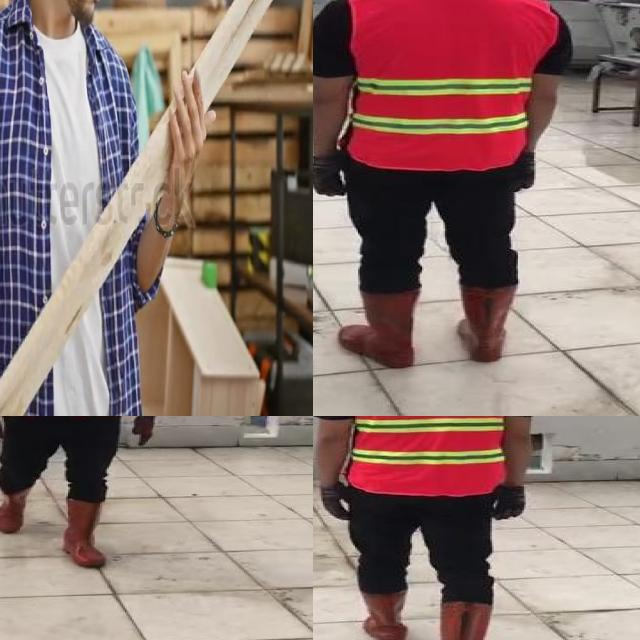boots: (337, 288, 422, 370), (456, 282, 516, 363), (63, 495, 109, 568), (356, 586, 408, 640), (431, 599, 493, 640), (0, 485, 31, 534)
hand_glove: (313, 150, 345, 197), (316, 483, 350, 520), (492, 489, 526, 520), (511, 153, 536, 192)
person: (313, 0, 577, 386), (0, 0, 204, 416), (313, 416, 559, 640), (0, 416, 166, 580)
vest: (347, 0, 544, 170), (344, 416, 516, 491)
